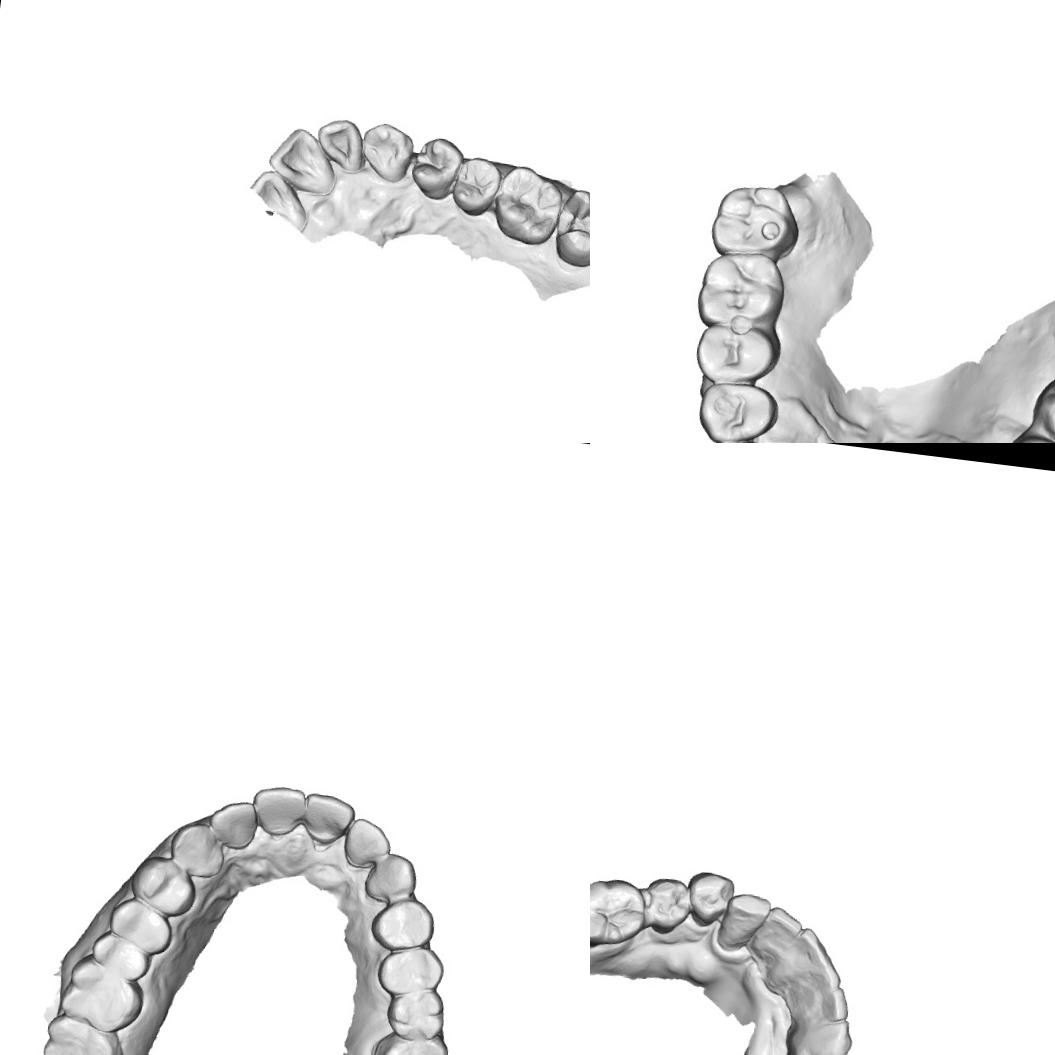canine: (127, 853, 200, 920), (368, 893, 438, 956), (356, 120, 416, 185), (714, 890, 773, 956), (781, 1013, 855, 1055)
incisor: (264, 123, 342, 197), (244, 167, 312, 232), (744, 904, 806, 968), (166, 819, 228, 880), (312, 115, 370, 176), (248, 782, 308, 840), (300, 790, 358, 848), (362, 849, 420, 906), (206, 796, 260, 853), (340, 816, 394, 870), (787, 925, 834, 973), (808, 983, 852, 1025), (809, 954, 844, 994)
inlay: (553, 192, 590, 258)
molar: (690, 246, 792, 335), (706, 178, 805, 263), (57, 950, 148, 1038), (490, 162, 566, 249), (38, 1010, 128, 1055), (364, 1029, 450, 1055), (1026, 366, 1055, 443)
premolar: (691, 318, 782, 388), (692, 379, 781, 443), (590, 872, 650, 950), (374, 941, 447, 1002), (105, 895, 176, 956), (408, 133, 466, 203), (383, 985, 448, 1045), (448, 154, 504, 219), (88, 928, 153, 984), (640, 874, 696, 938), (681, 868, 737, 931)
